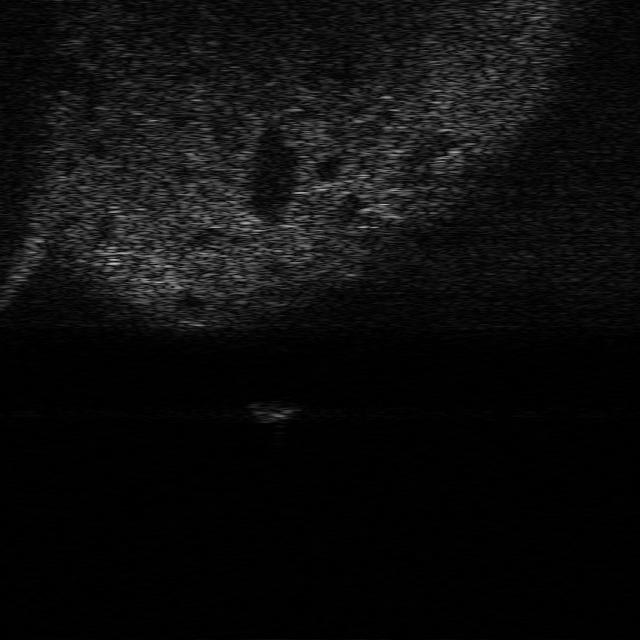cube: (245, 401, 301, 423)
